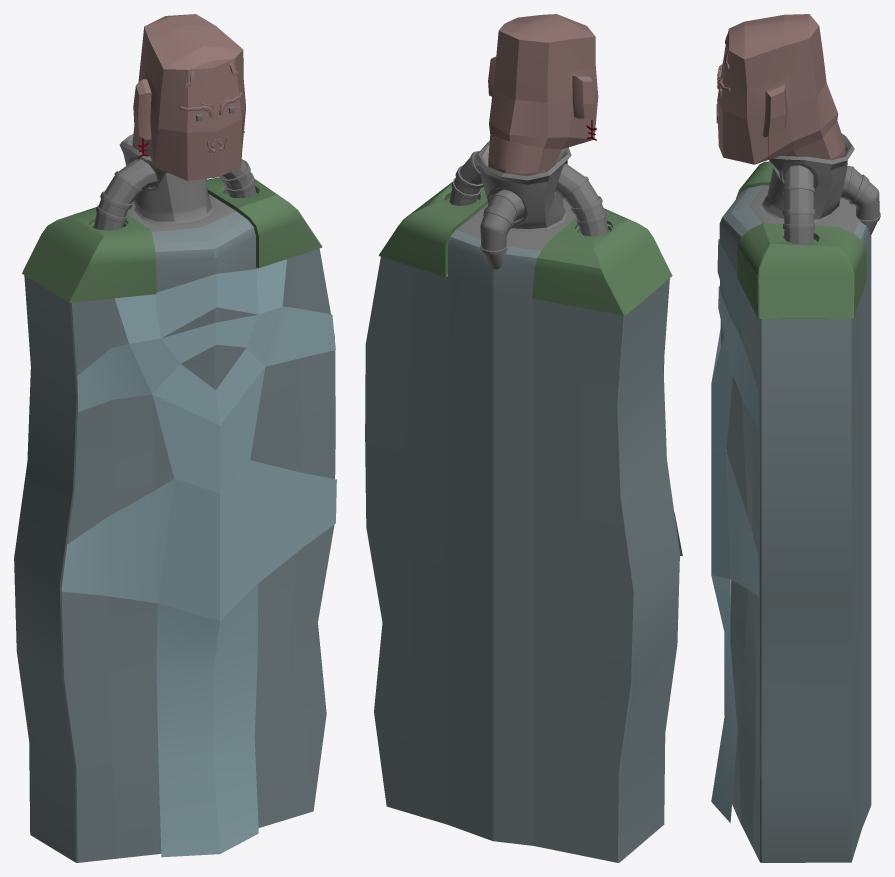
The model's file is Alien.fbx.
The picture shows the model from 3 angles, left to right: view 1: azimuth 30°, elevation 25°; view 2: azimuth 150°, elevation 25°; view 3: azimuth 270°, elevation 25°; orthographic projection. The views are drawn at different scales.
Parts seen in each view (by area): view 1: pCube15; view 2: pCube15; view 3: pCube15.
Boxes of the visible parts, x1,y1,x2,y2 form: pCube15: [14, 14, 336, 862]; pCube15: [365, 14, 682, 862]; pCube15: [711, 14, 880, 862].
Size of the model in its own units: 1.3 by 3.62 by 0.7103.
